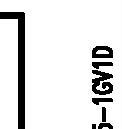verticaltext: (91, 44, 113, 129)
